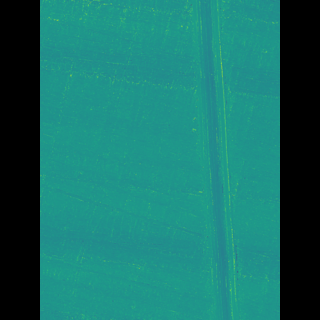Loch: (180, 0, 220, 320)
